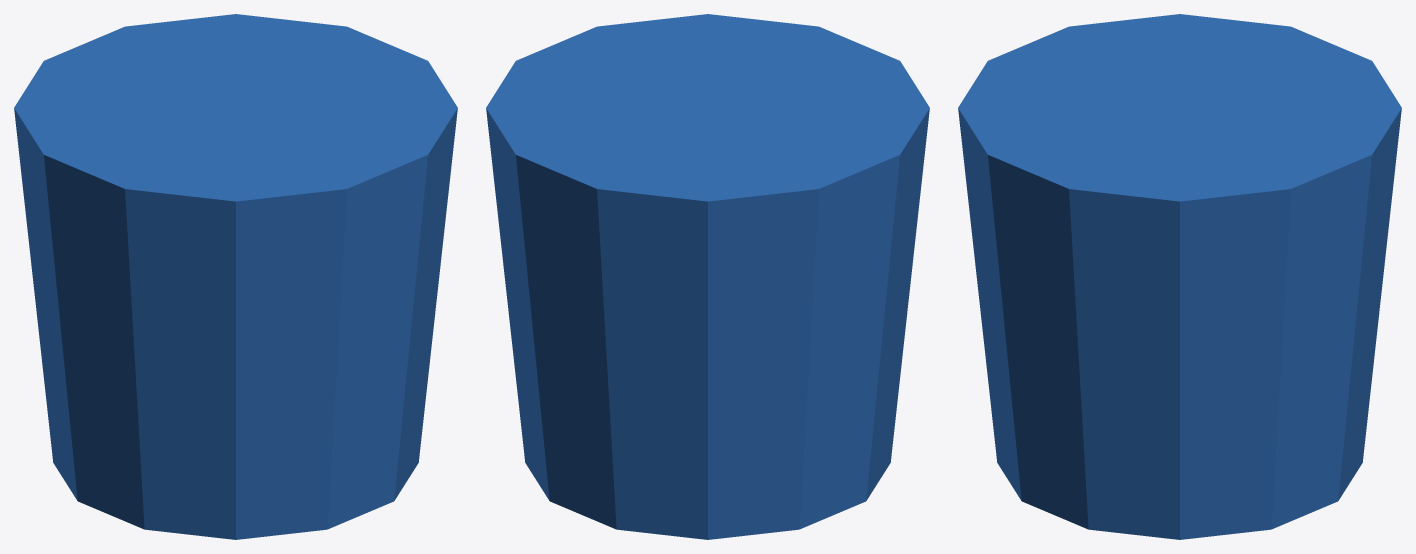
Rendered from bucket.glb.
3 views of the same model, side by side, from view 1: azimuth 30°, elevation 25°; view 2: azimuth 150°, elevation 25°; view 3: azimuth 270°, elevation 25° (orthographic).
Parts seen in each view (by area): view 1: bucket; view 2: bucket; view 3: bucket.
Part boxes in pixels (x1,y1,x2,y2): bucket: [14, 14, 457, 539]; bucket: [486, 14, 929, 539]; bucket: [958, 14, 1401, 539].
Size of the model in its own units: 0.34 by 0.3 by 0.34.
